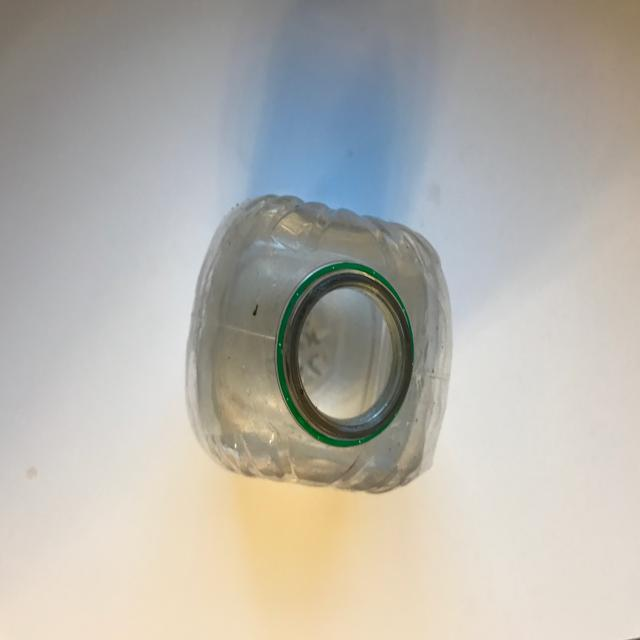plastic: (184, 192, 453, 494)
